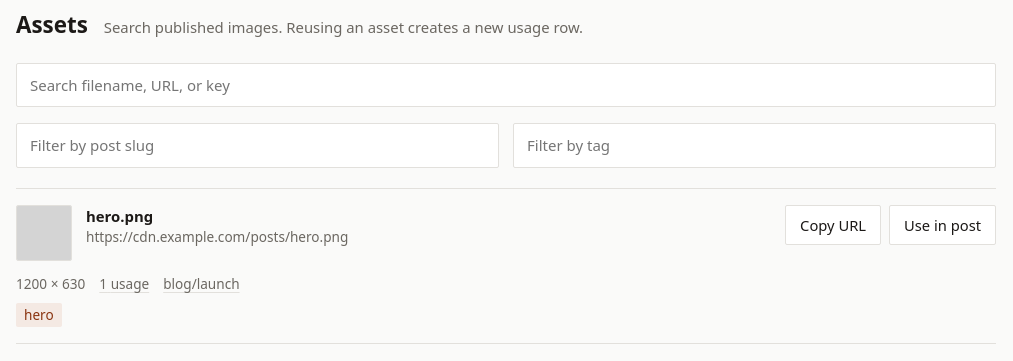
Test: AssetCatalog › copies the public URL from a row
This screenshot has width=1013, height=361.
What coordinates should you click on to do the following:
click the button "Copy URL"
I would click on:
 (833, 225)
Its box is [785,205,881,245].
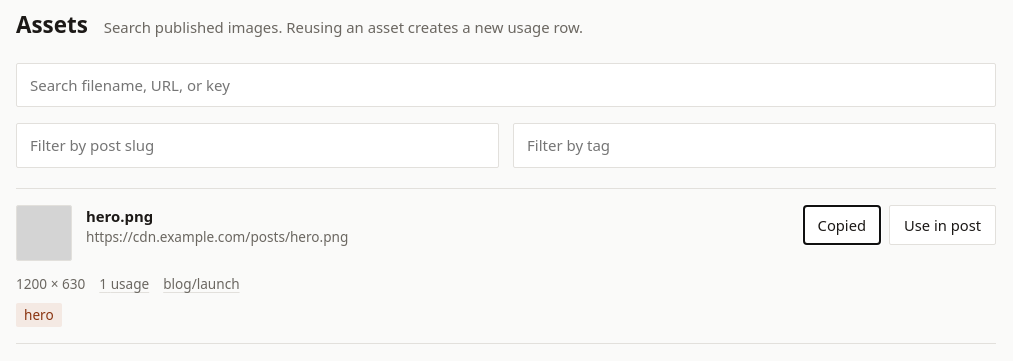
Result: the button "Copied" is shown at [803,205,881,245]
